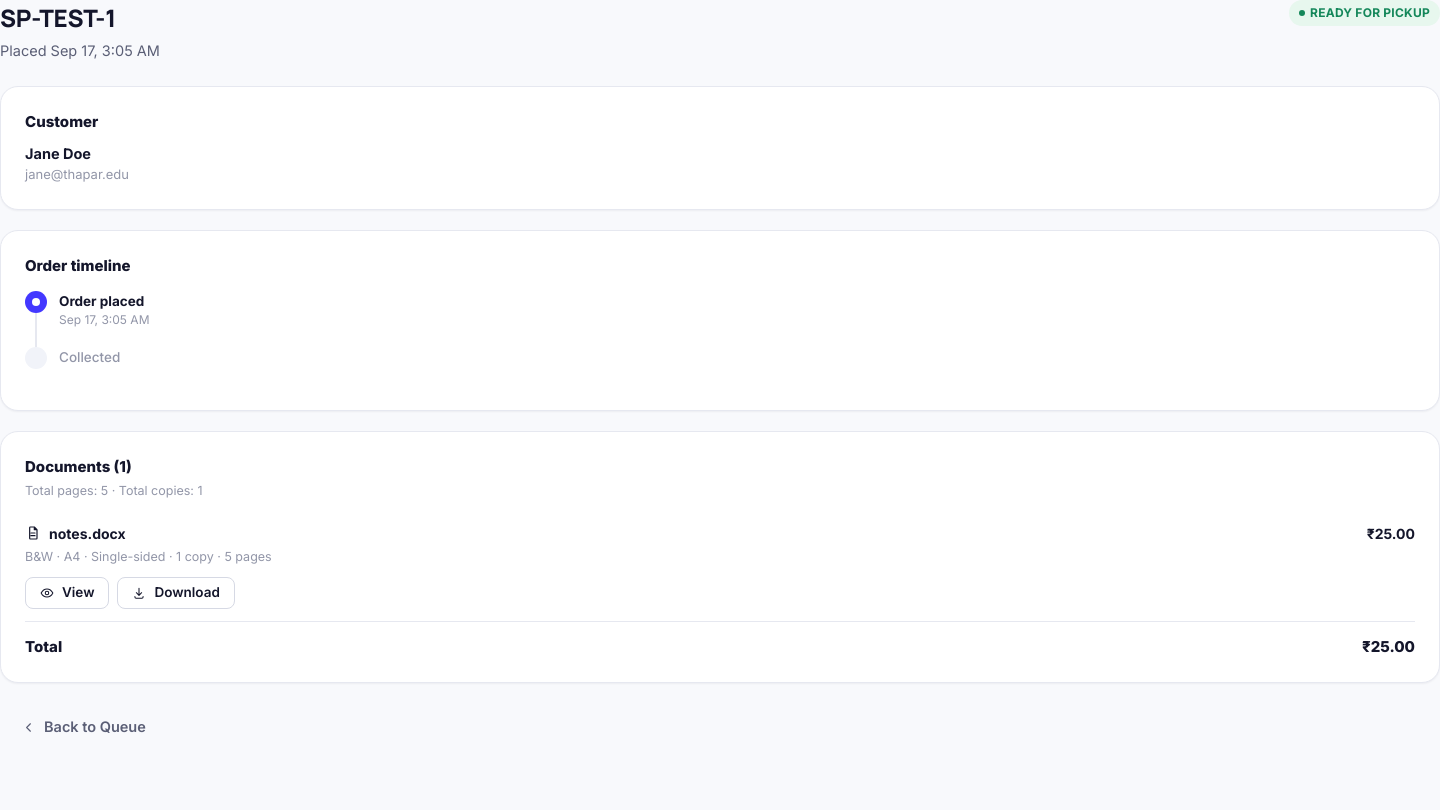
Test case: StaffOrderDetailsPage document view/download › shows a fallback message for non-PDF files instead of attempting a blob preview
Check: the text "notes.docx" is shown, box [49,523,126,544]
Click the button "View" at (67, 592), box [25,576,110,608]
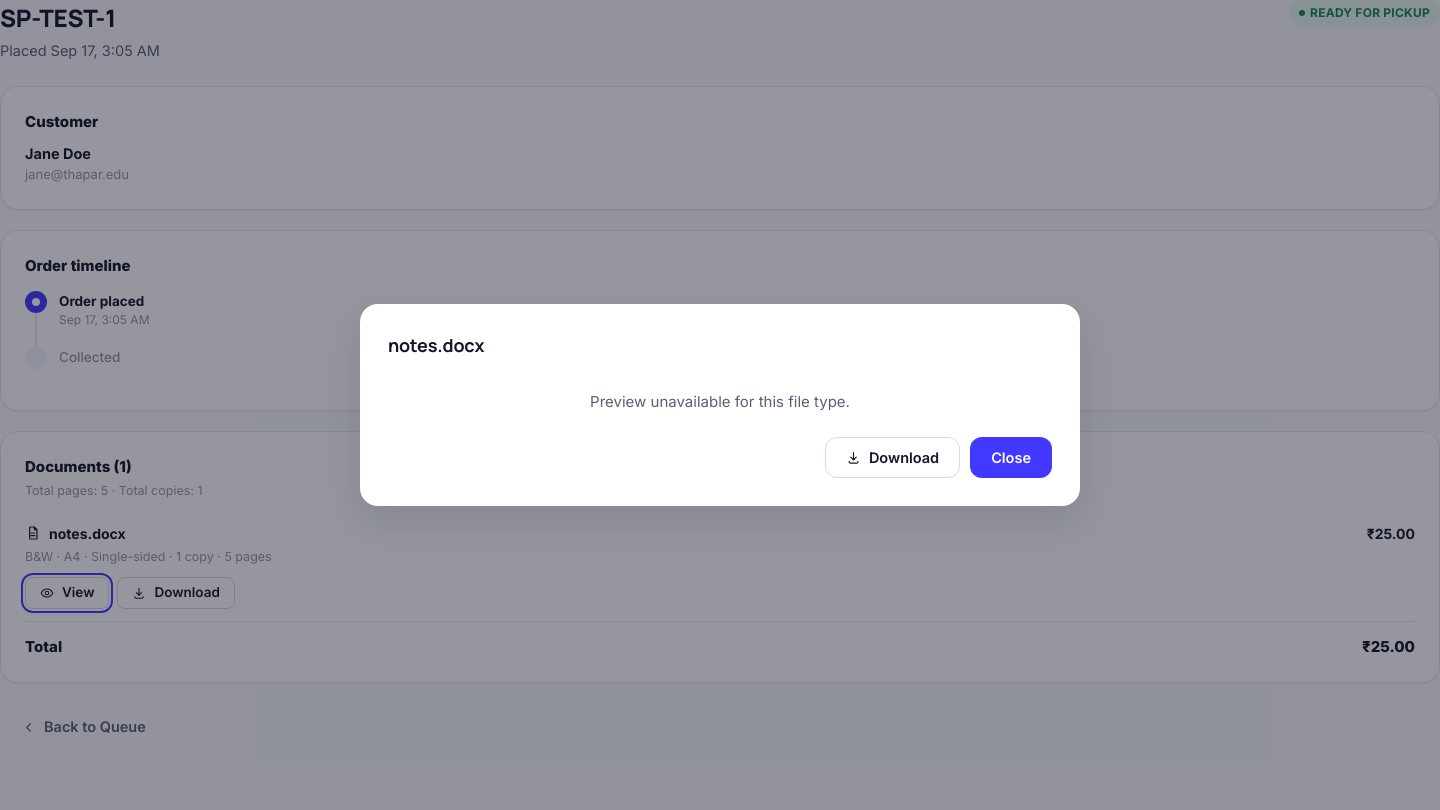
Check: the text "Preview unavailable for this file type." is shown, box [590,392,850,411]
